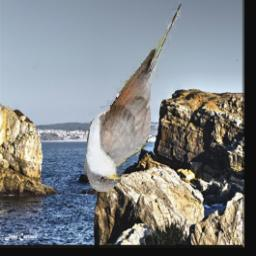Cuckoo: (85, 1, 183, 194)
